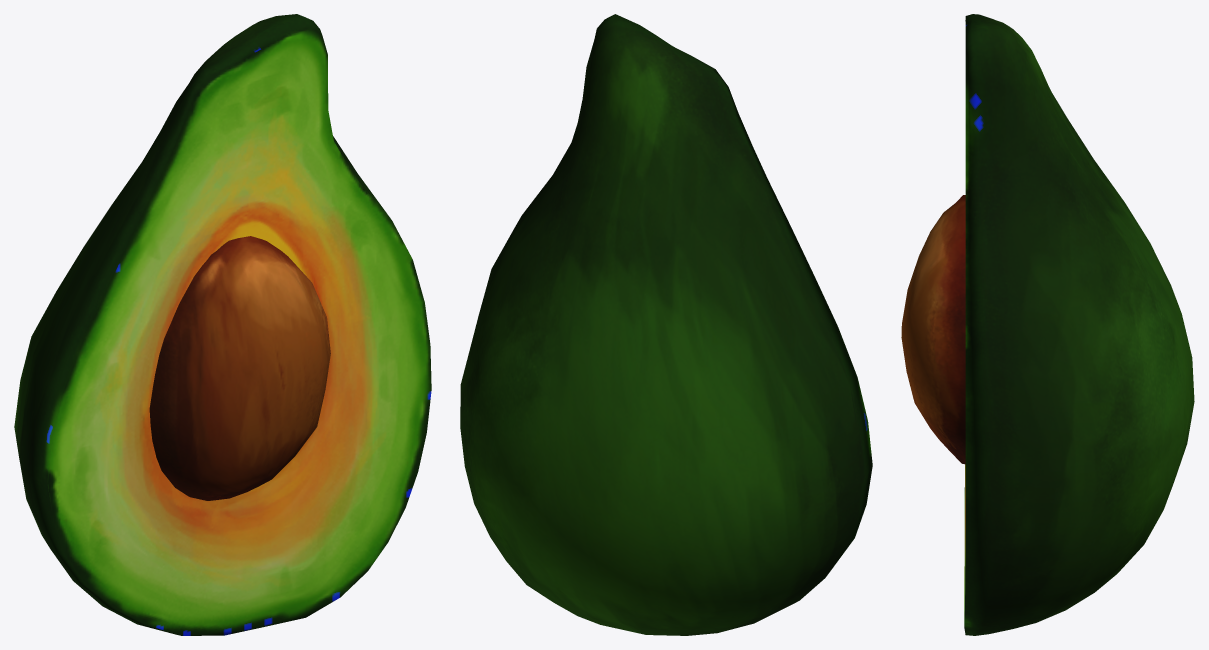
Rendered from avocado.gltf.
The picture shows the model from 3 angles, left to right: view 1: azimuth 30°, elevation 25°; view 2: azimuth 150°, elevation 25°; view 3: azimuth 270°, elevation 25°; orthographic projection. The views are drawn at different scales.
Parts seen in each view (by area): view 1: Avocado; view 2: Avocado; view 3: Avocado.
Part boxes in pixels (x1=…): Avocado: x1=14, y1=14, x2=431, y2=635; Avocado: x1=460, y1=14, x2=872, y2=635; Avocado: x1=901, y1=14, x2=1194, y2=635.
Bounding box in the file's own units: 0.0426 × 0.0629 × 0.0276.
1 material, 1 textured.
